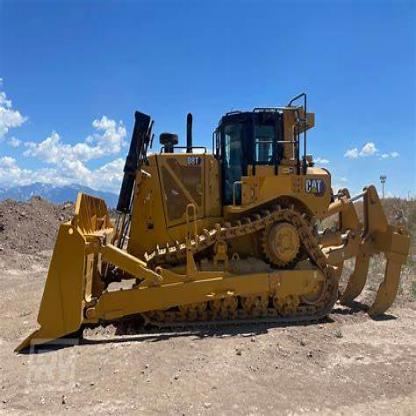bull_dozer/loader/grader: (32, 93, 412, 354)
